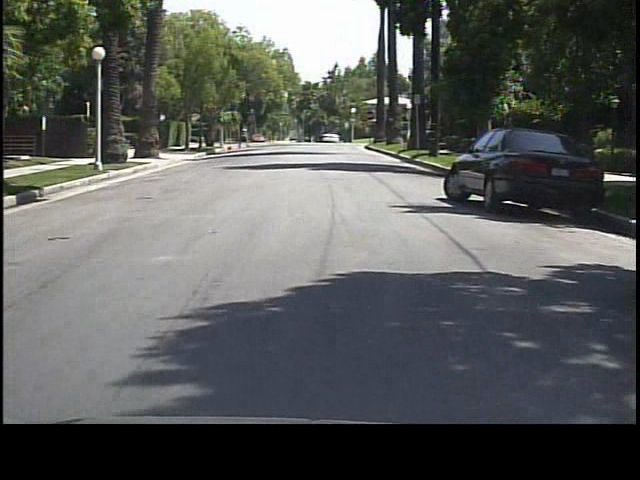person: (239, 125, 252, 154)
